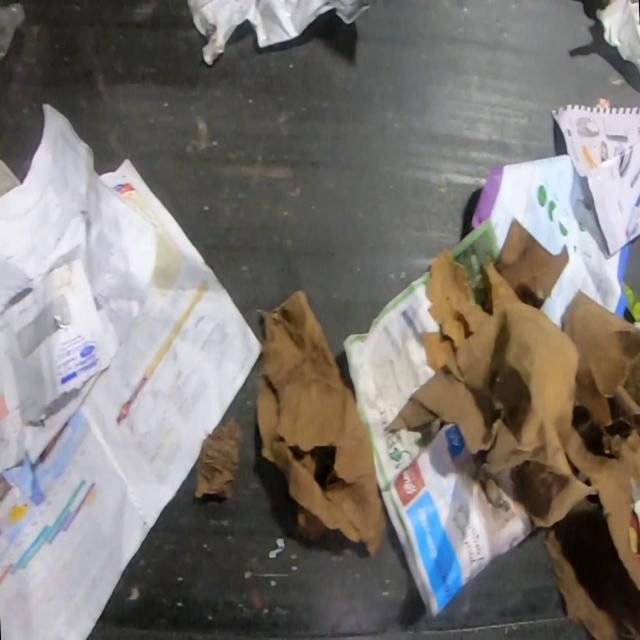cardboard: (386, 217, 639, 639), (256, 289, 383, 556), (196, 419, 244, 500)
rigid_plastic: (0, 1, 26, 59)
